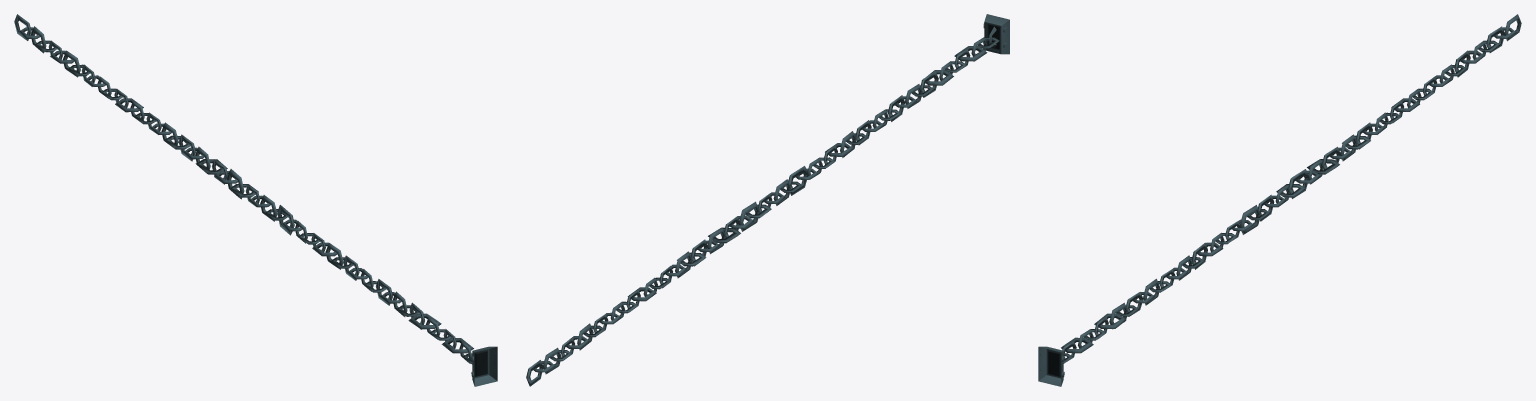
File: obj_chain_base_LOW.FBX
3 views of the same model, side by side, from view 1: azimuth 30°, elevation 25°; view 2: azimuth 150°, elevation 25°; view 3: azimuth 330°, elevation 25° (orthographic).
Visible parts, largest first — view 1: obj_chain_base_LOW; view 2: obj_chain_base_LOW; view 3: obj_chain_base_LOW.
Part boxes in pixels (left/top/right/bottom): obj_chain_base_LOW: left=14, top=14, right=497, bottom=386; obj_chain_base_LOW: left=526, top=14, right=1009, bottom=386; obj_chain_base_LOW: left=1038, top=14, right=1521, bottom=386.
Bounding box in the file's own units: 0.3218 × 0.4457 × 11.02.
